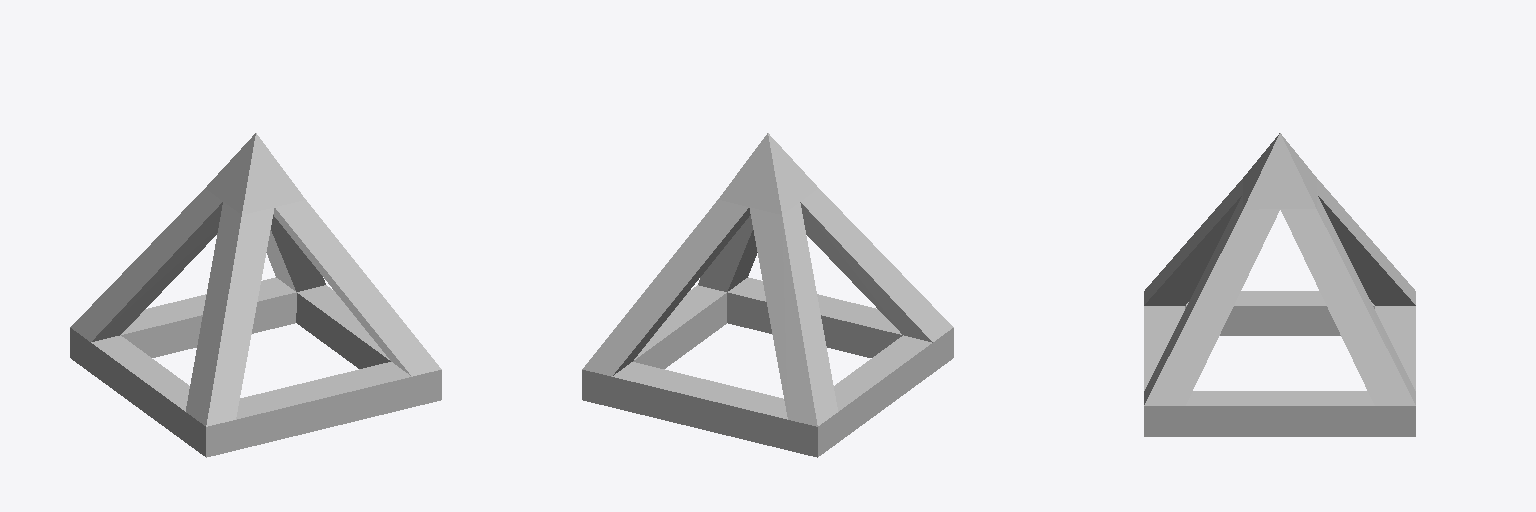
File: glassPyramidBroken1.obj
3 renders of one model, left to right at view 1: azimuth 30°, elevation 25°; view 2: azimuth 150°, elevation 25°; view 3: azimuth 270°, elevation 25°, orthographic.
Parts seen in each view (by area): view 1: Cube.001; view 2: Cube.001; view 3: Cube.001.
Boxes of the visible parts, <box> form: Cube.001: <box>70,133,441,457</box>; Cube.001: <box>582,133,953,457</box>; Cube.001: <box>1144,133,1415,436</box>.
Size of the model in its own units: 4 by 4 by 4.